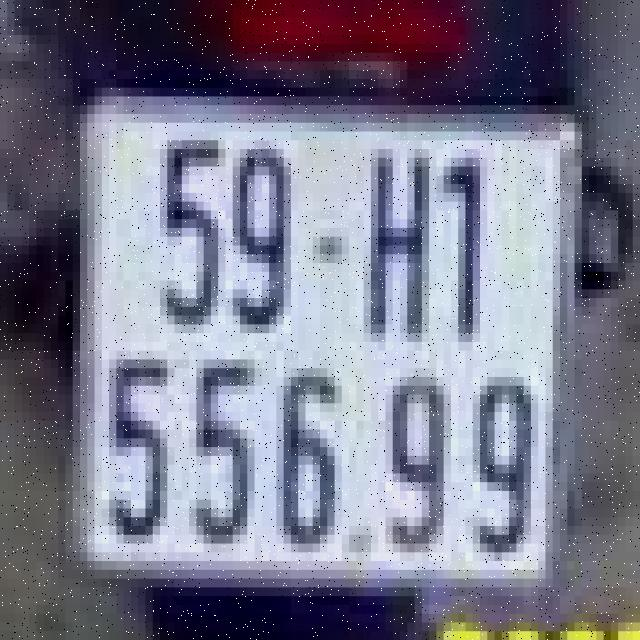1: (444, 149, 502, 351)
5: (149, 136, 229, 329), (189, 346, 262, 548), (106, 351, 178, 544)
6: (269, 360, 349, 552)
9: (458, 368, 546, 561), (229, 140, 302, 333), (382, 372, 454, 556)
H: (360, 136, 433, 355)
